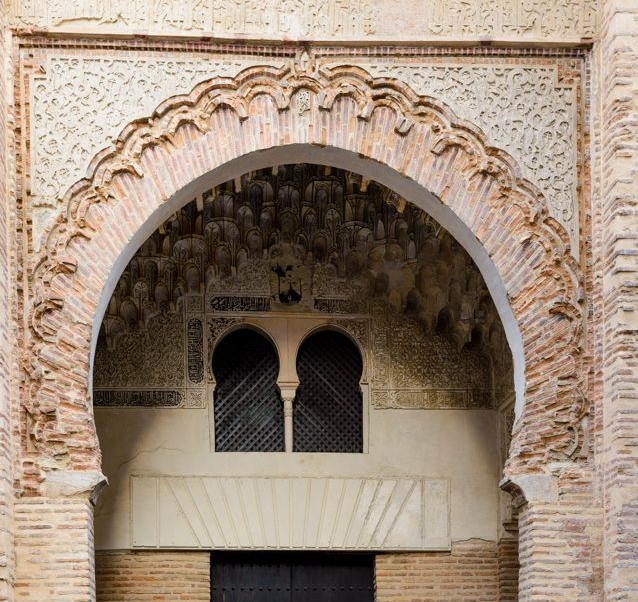arco-herradura: (61, 133, 545, 508), (204, 318, 289, 408), (288, 321, 366, 407)
dintel-adovelado: (159, 474, 421, 548)
